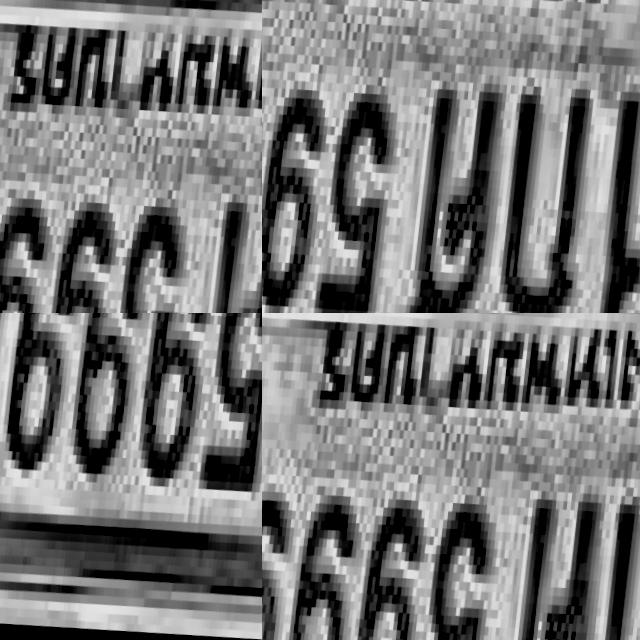license-plate: (262, 313, 640, 640), (262, 0, 640, 313), (110, 0, 262, 313)
